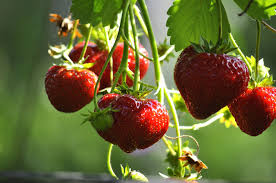ripe: (172, 45, 248, 123), (82, 89, 172, 154), (99, 40, 156, 92), (43, 61, 101, 112), (228, 78, 275, 137), (70, 38, 102, 68)
